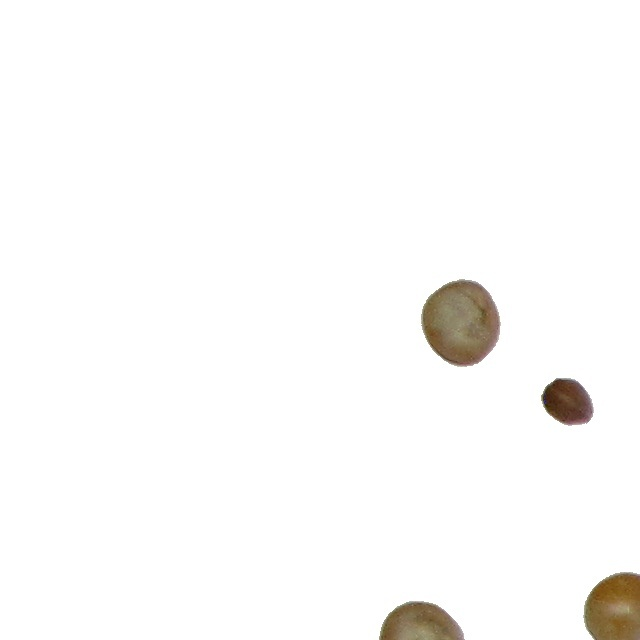buckwheat: (540, 377, 595, 427)
mais: (420, 278, 502, 368), (582, 571, 640, 640), (377, 600, 467, 640)
